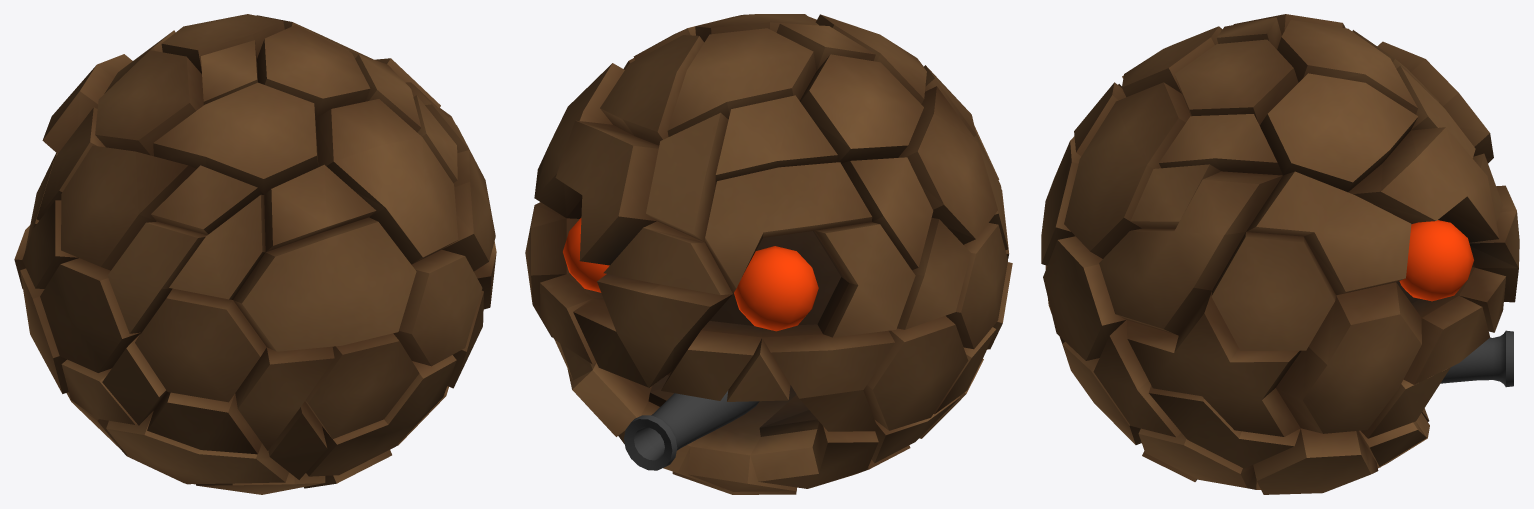
File: rock.obj
3 views of the same model, side by side, from view 1: azimuth 30°, elevation 25°; view 2: azimuth 150°, elevation 25°; view 3: azimuth 270°, elevation 25° (orthographic). The views are drawn at different scales.
Parts seen in each view (by area): view 1: GeoSphere01; view 2: GeoSphere01, GeoSphere03, Line02, GeoSphere02; view 3: GeoSphere01, GeoSphere02, Line02.
Boxes of the visible parts, left/top/right/bottom form: GeoSphere01: left=14, top=14, right=496, bottom=494; GeoSphere01: left=525, top=14, right=1012, bottom=494; GeoSphere03: left=734, top=246, right=818, bottom=331; Line02: left=624, top=390, right=759, bottom=470; GeoSphere02: left=563, top=218, right=609, bottom=292; GeoSphere01: left=1041, top=14, right=1519, bottom=494; GeoSphere02: left=1399, top=220, right=1473, bottom=301; Line02: left=1440, top=330, right=1513, bottom=387.
Bounding box in the file's own units: 71.41 × 72.42 × 72.25.
Materials: 3 (1 with a texture image).
